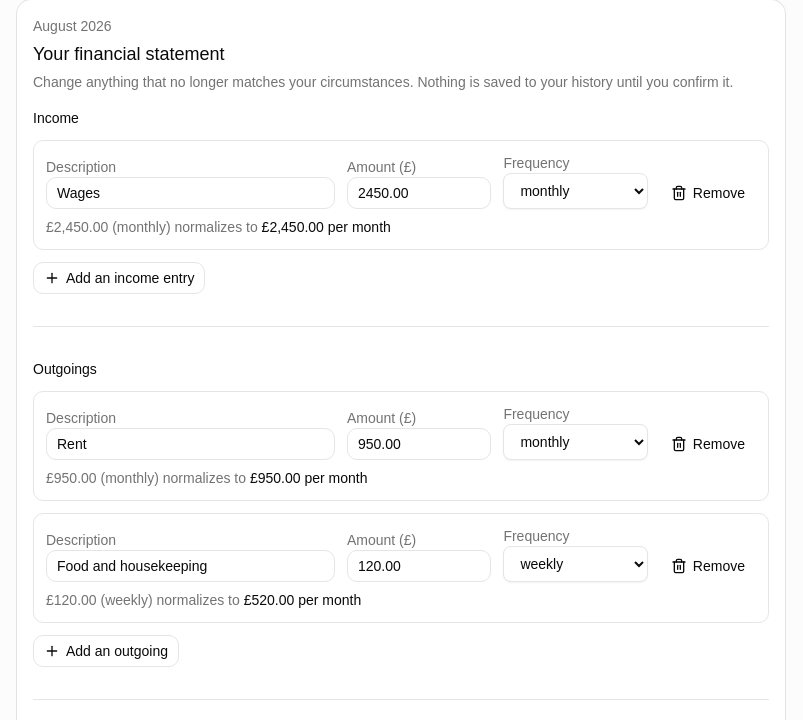
Test: StatementEditor › previews the recalculated position and states that nothing was saved
Replace the text in the field named "wages amount" with "3000.00": (419, 193) [347,177,491,209]
(page scrolled)
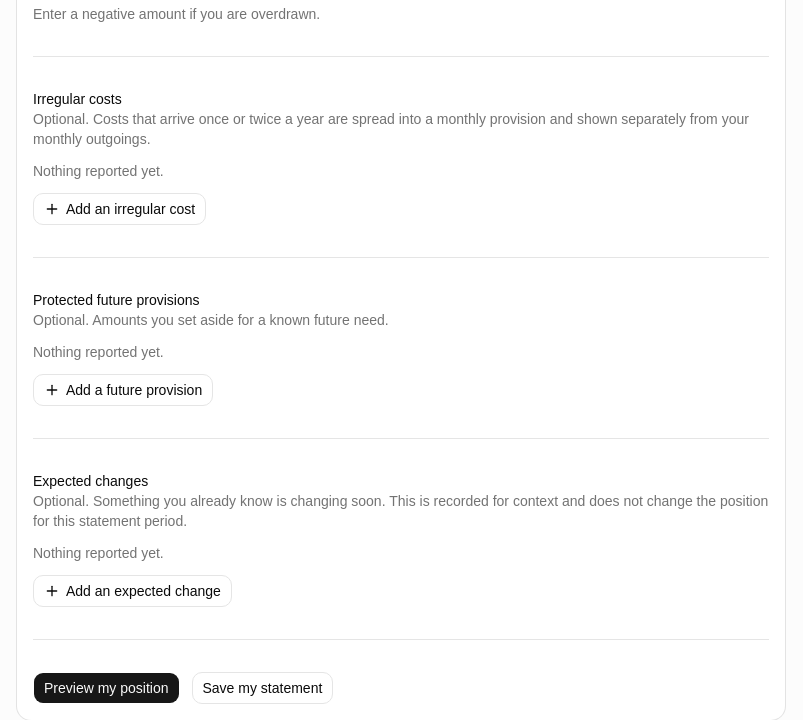
Click the button "Preview my position": (106, 688) [33,672,180,704]
(page scrolled)
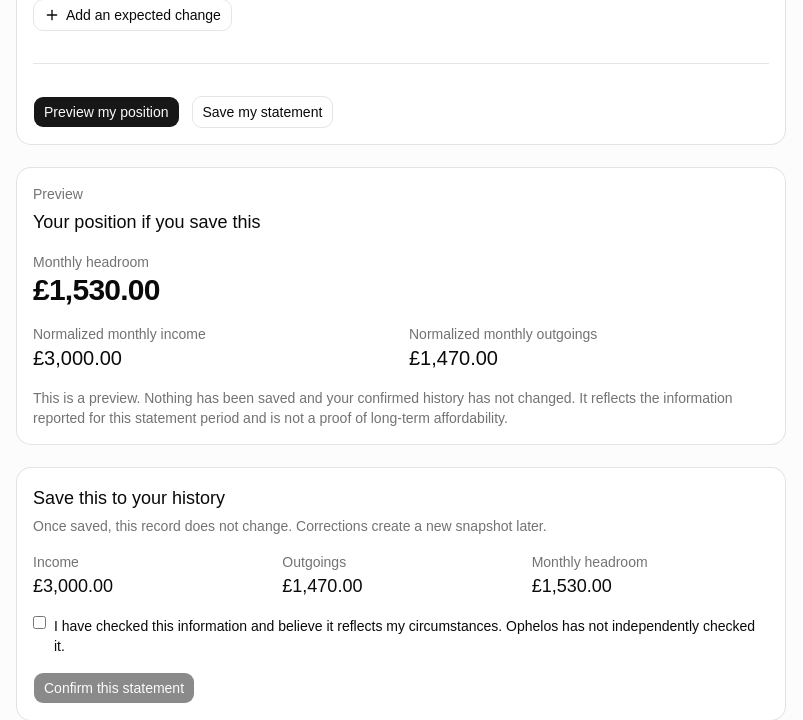
Result: the text "£1,530.00" below "Your position if you save this" is shown at [33,273,160,306]
Result: the text "nothing has been saved and your confirmed history has not changed" is shown at [33,390,733,426]
